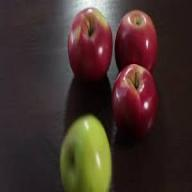apple: (60, 114, 110, 191), (67, 8, 115, 84), (113, 65, 158, 142), (116, 7, 160, 79)
